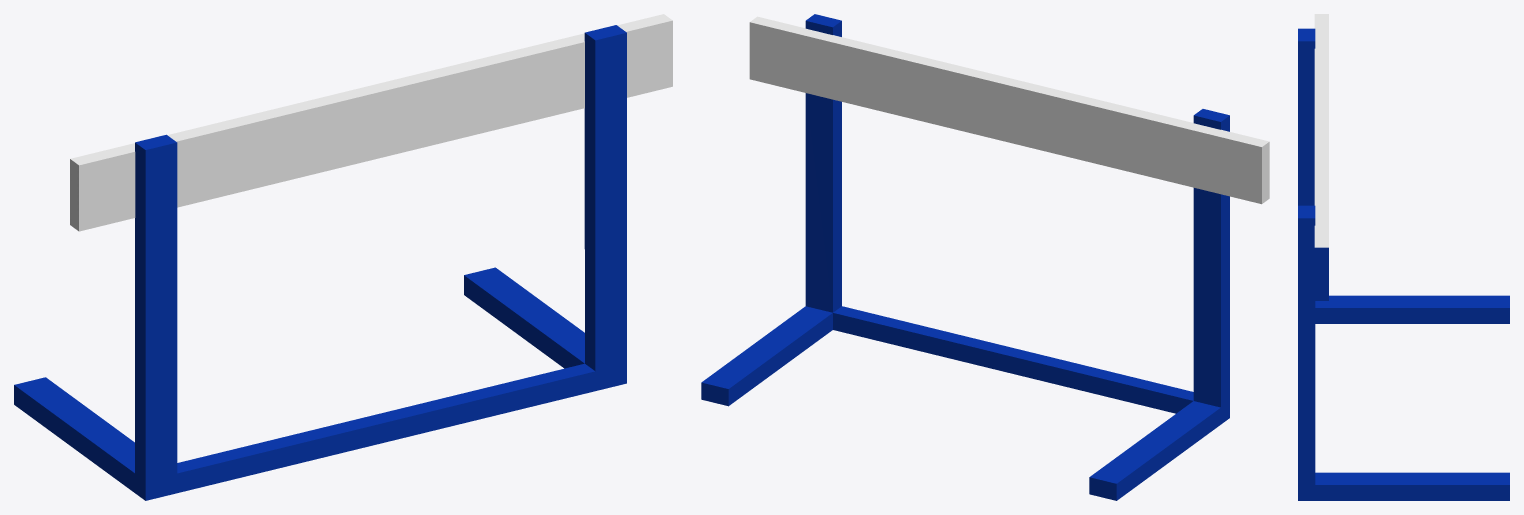
Rendered from valla.FBX.
3 renders of one model, left to right at view 1: azimuth 30°, elevation 25°; view 2: azimuth 150°, elevation 25°; view 3: azimuth 270°, elevation 25°, orthographic. The views are drawn at different scales.
Visible parts, largest first — view 1: Box002; view 2: Box002; view 3: Box002.
Boxes of the visible parts, box(x1,y1,x2,y2) form: Box002: box(14, 14, 672, 500); Box002: box(701, 14, 1269, 500); Box002: box(1298, 14, 1509, 500).
Bounding box in the file's own units: 185 × 104 × 70.87.
